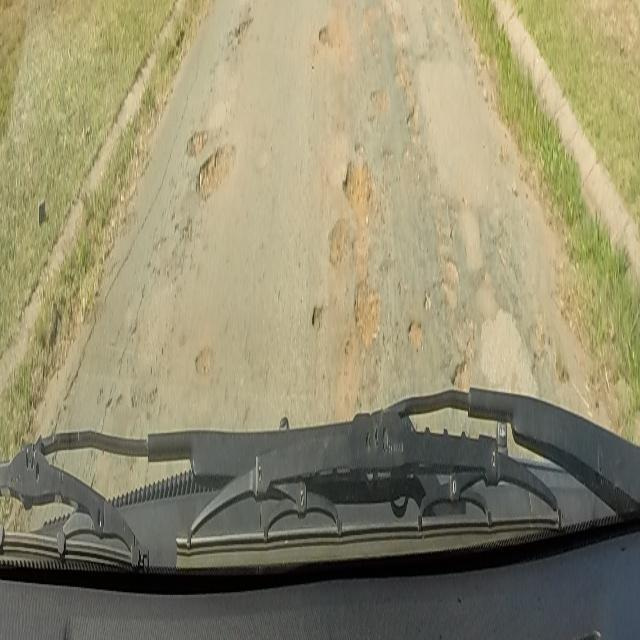pothole: (310, 157, 381, 350), (408, 256, 470, 393), (196, 143, 235, 204), (316, 12, 352, 48), (190, 341, 218, 380), (184, 120, 207, 156), (233, 13, 254, 42)
